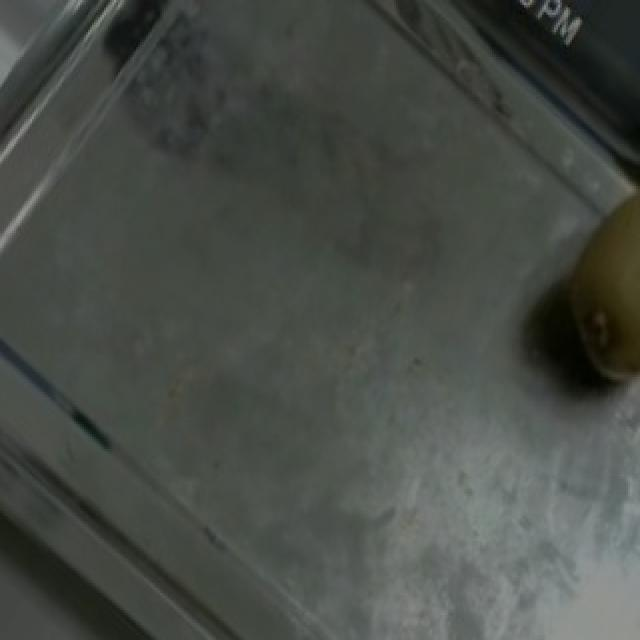Fruit: (506, 159, 640, 417)
